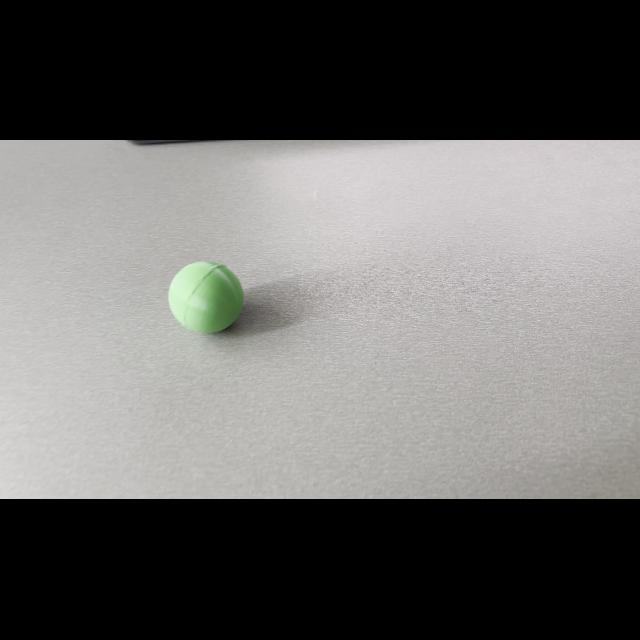objects: (162, 252, 250, 342)
